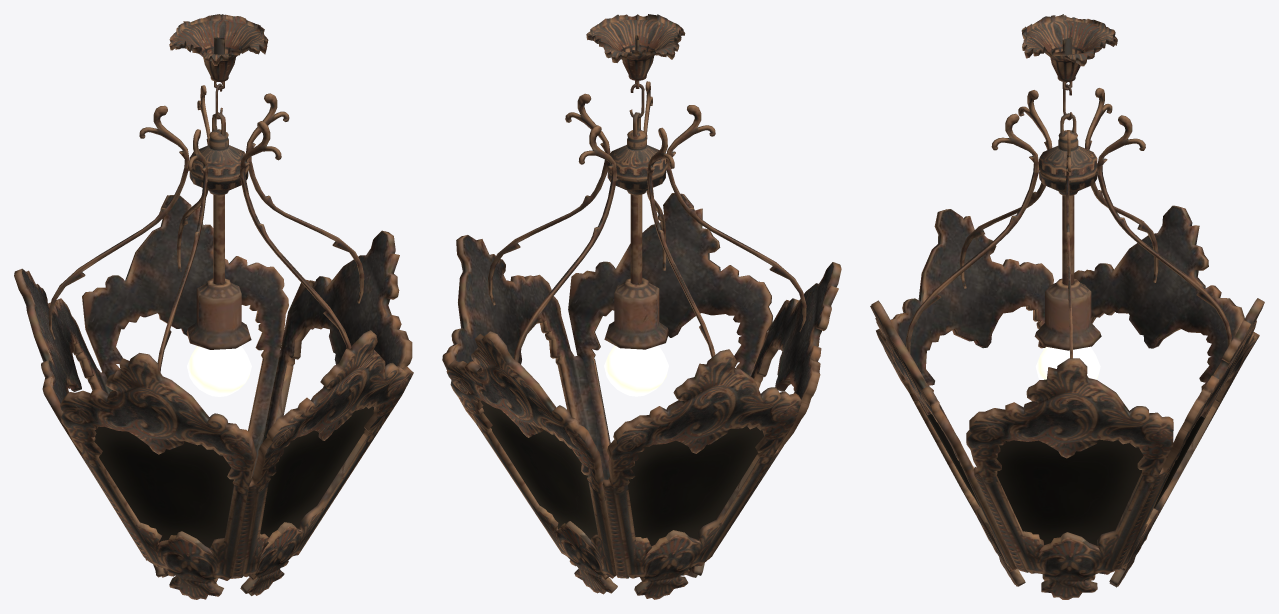
File: lantern_chandelier_01.glb
3 renders of one model, left to right at view 1: azimuth 30°, elevation 25°; view 2: azimuth 150°, elevation 25°; view 3: azimuth 270°, elevation 25°, orthographic.
Visible parts, largest first — view 1: lantern_chandelier_01; view 2: lantern_chandelier_01; view 3: lantern_chandelier_01.
Part boxes in pixels (box(x1,y1,x2,y2)): lantern_chandelier_01: box(14, 14, 413, 599); lantern_chandelier_01: box(442, 14, 841, 599); lantern_chandelier_01: box(870, 14, 1264, 599).
Bounding box in the file's own units: 0.5792 × 0.8776 × 0.5746.
3 materials, 2 textured.
